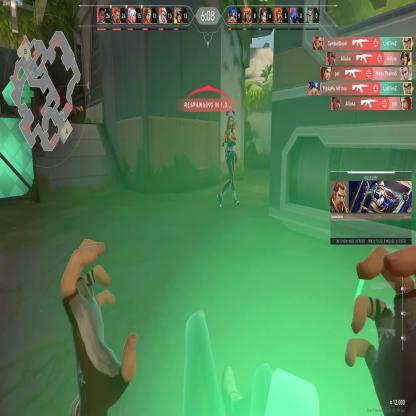enemy: (218, 108, 241, 211)
